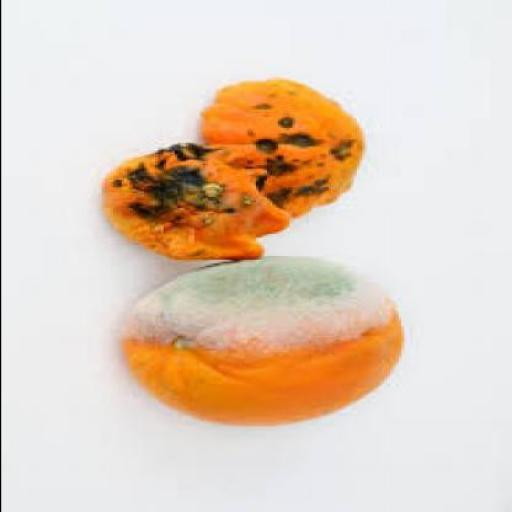biodegradable: (120, 256, 406, 425), (204, 76, 367, 214), (106, 141, 294, 258)
